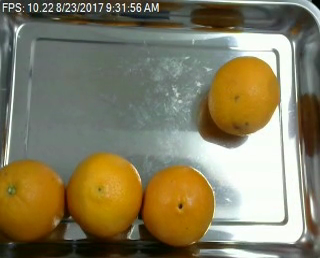Orange: (64, 152, 141, 236), (141, 164, 216, 246), (208, 55, 282, 136), (1, 159, 66, 242)
